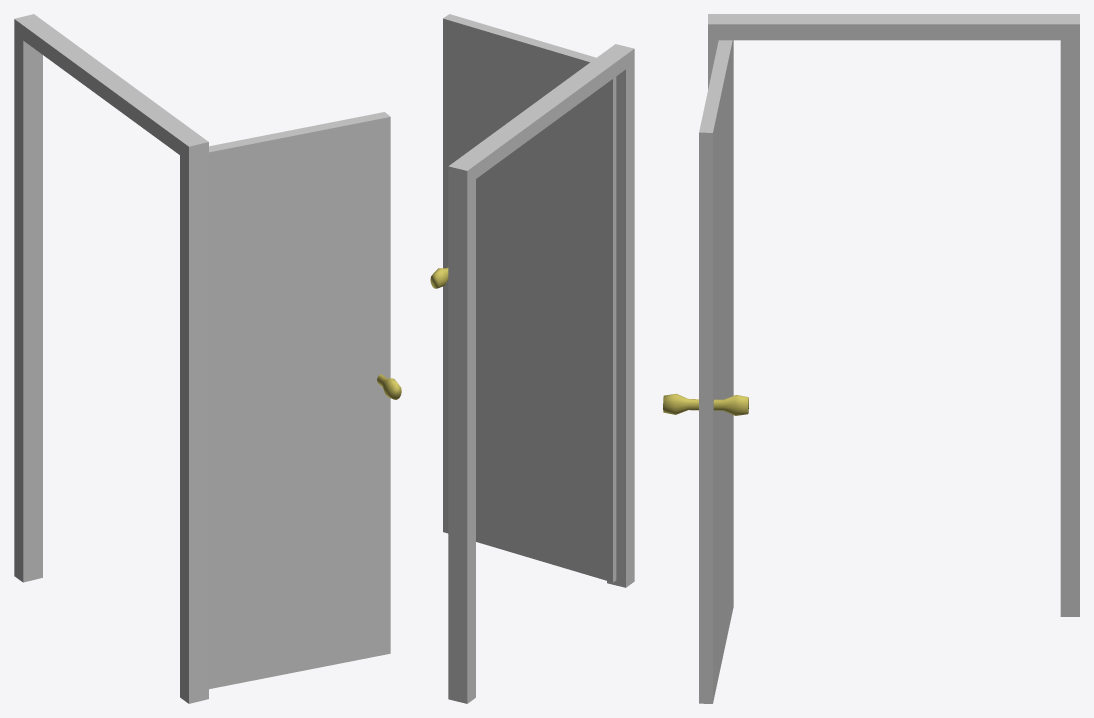
File: G_p_tuer1_offen.fbx
The picture shows the model from 3 angles, left to right: view 1: azimuth 30°, elevation 25°; view 2: azimuth 150°, elevation 25°; view 3: azimuth 270°, elevation 25°; orthographic projection. The views are drawn at different scales.
Visible parts, largest first — view 1: Tuer.005, Tuerrahmen.005; view 2: Tuer.005, Tuerrahmen.005; view 3: Tuer.005, Tuerrahmen.005.
Boxes of the visible parts, box(x1,y1,x2,y2) form: Tuer.005: box(209, 112, 401, 689); Tuerrahmen.005: box(14, 14, 208, 703); Tuer.005: box(430, 14, 616, 582); Tuerrahmen.005: box(448, 44, 634, 703); Tuer.005: box(663, 40, 748, 703); Tuerrahmen.005: box(708, 14, 1079, 616).
Size of the model in its own units: 80.91 by 217 by 139.
